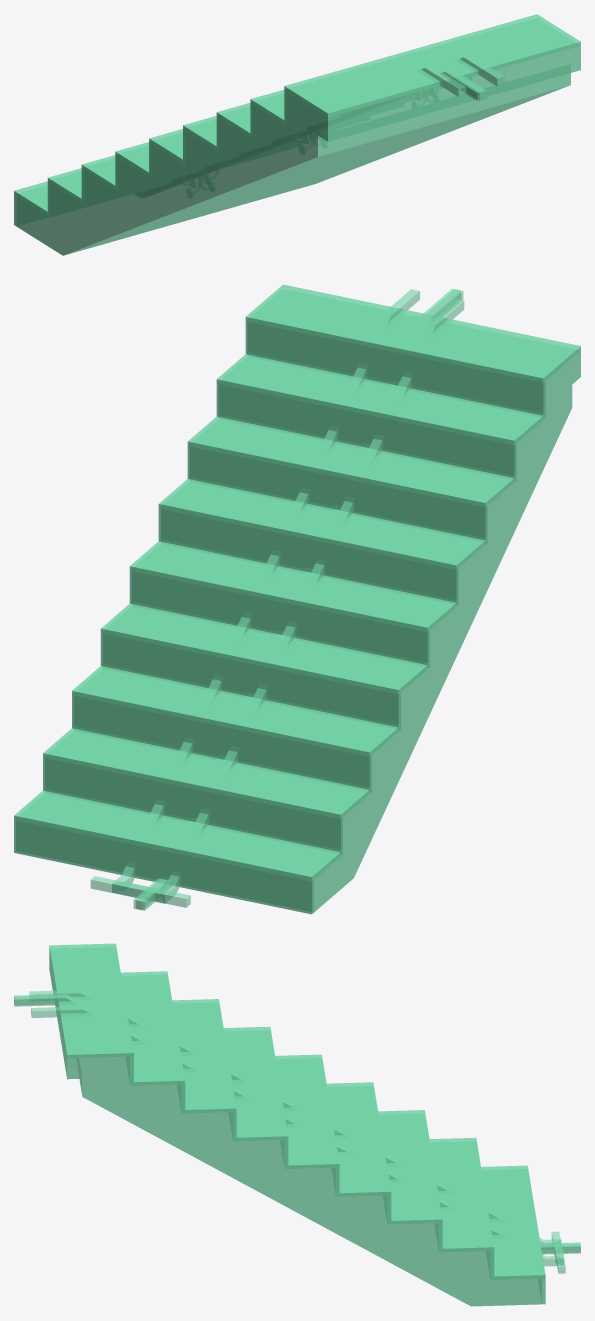
The model's file is zeHGW_circulation.glb.
3 views of the same model, one above another, from view 1: azimuth 30°, elevation 25°; view 2: azimuth 150°, elevation 25°; view 3: azimuth 270°, elevation 25° (orthographic). The views are drawn at different scales.
Parts seen in each view (by area): view 1: world; view 2: world; view 3: world.
Boxes of the visible parts, box(x1,y1,x2,y2) form: world: box(14, 14, 580, 255); world: box(14, 284, 580, 914); world: box(14, 943, 580, 1306).
Bounding box in the file's own units: 1.53 × 1.56 × 2.97.
